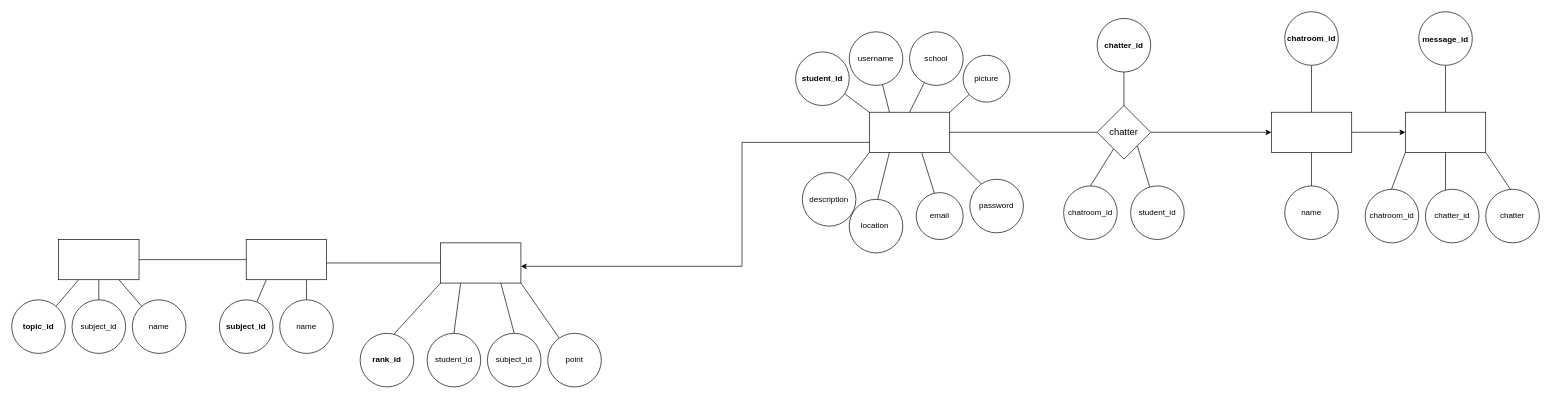
The diagram is 1551 pixels wide and 399 high, and some of its shapes have lost their labels. The shapes that lost their labels are listed below. From the top down, each one's centre as x and y in pixels, then its label:
At (x=909, y=132): "Student".
At (x=1311, y=132): "Chatroom".
At (x=1445, y=132): "Message".
At (x=98, y=259): "Topic".
At (x=286, y=259): "Subject".
At (x=480, y=262): "Rank".
